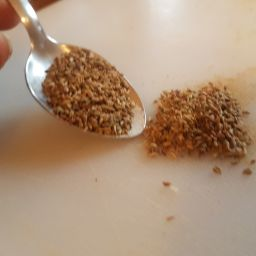Ajwain: (143, 60, 256, 200), (16, 40, 153, 155)
